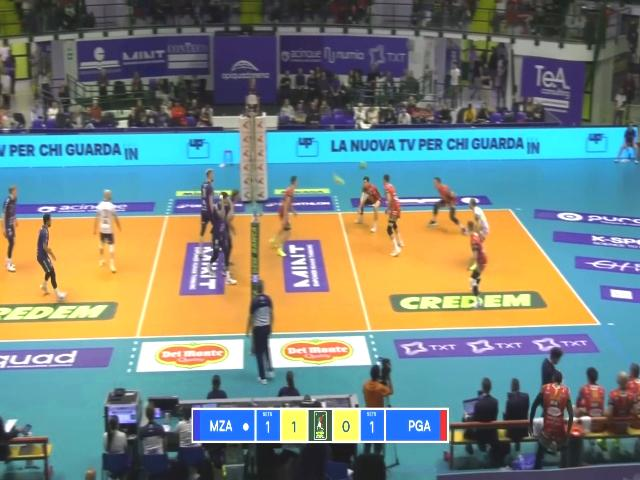volleyball court: (0, 207, 601, 338)
